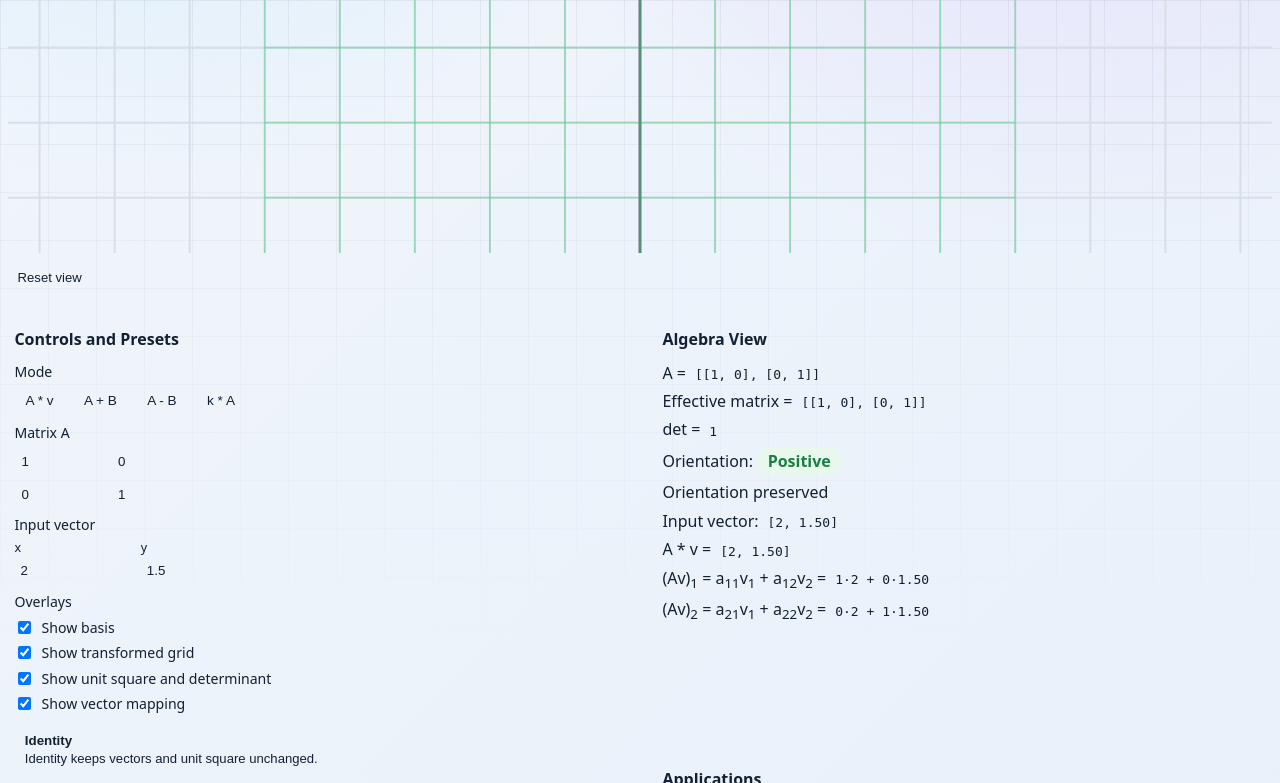
Scenario: Matrix2DModule › switches to add mode and shows matrix B editor
(page scrolled)
Click the button "A + B" at (100, 401), box [73,388,128,414]
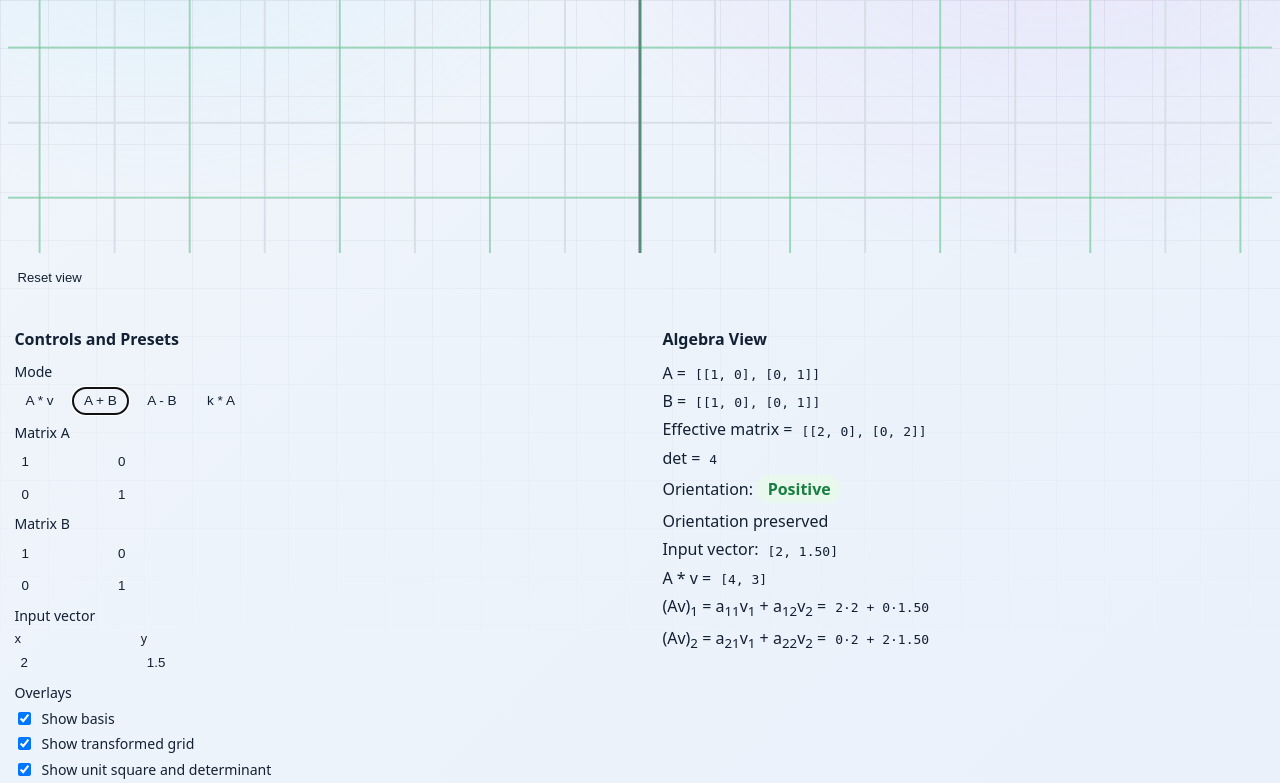
Now the text "Matrix B" is shown, box [14,514,70,533]
